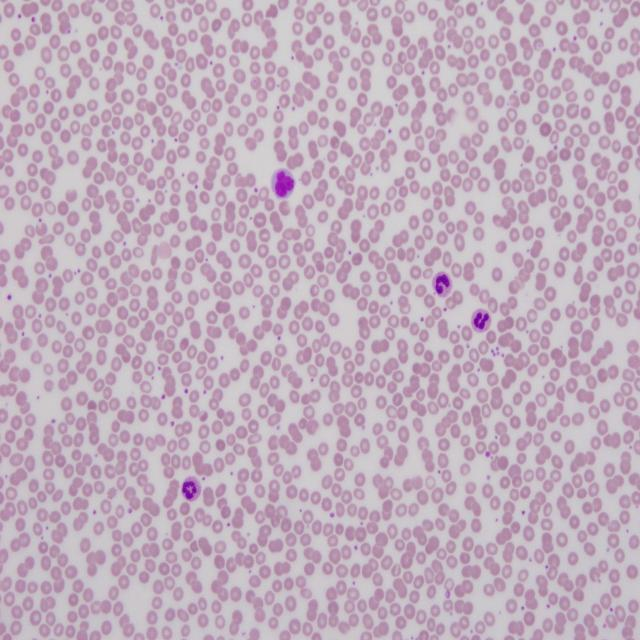cell: (180, 475, 202, 502), (432, 271, 451, 296), (471, 309, 491, 332)
